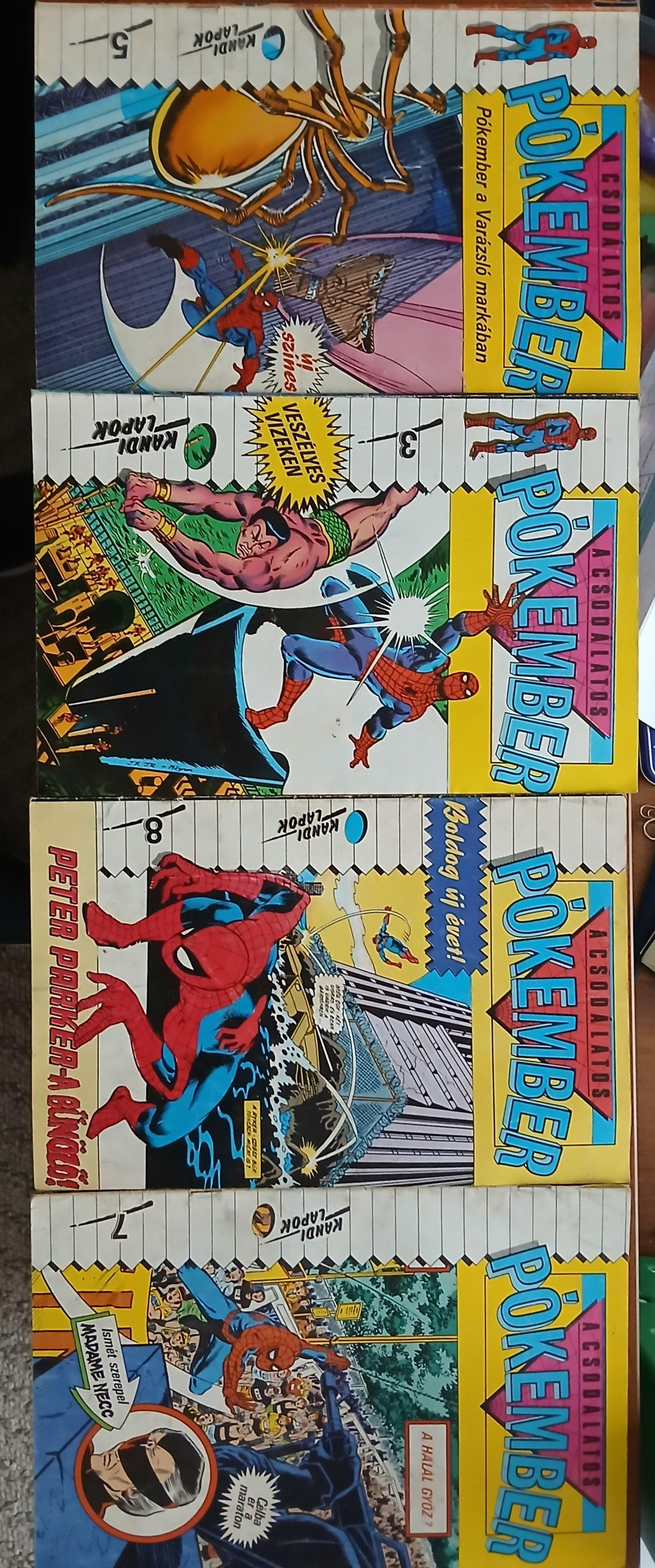comic: (34, 393, 638, 798), (37, 3, 640, 399), (31, 794, 632, 1191), (32, 1187, 629, 1568)
